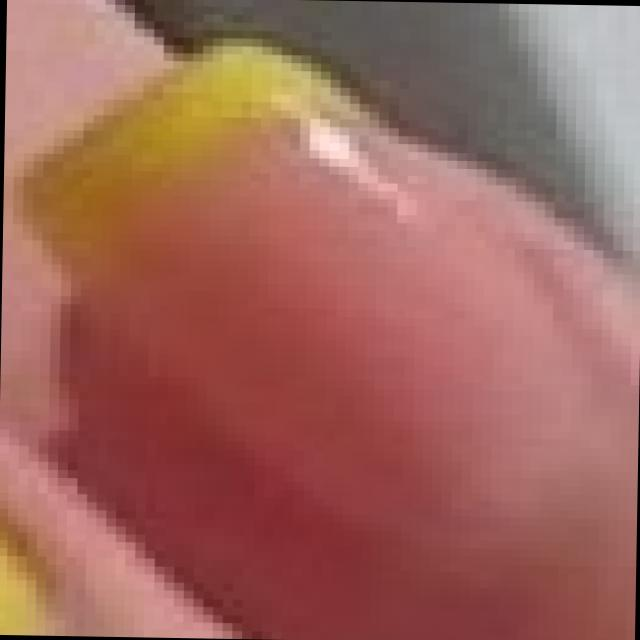Nail: (18, 40, 614, 557)
